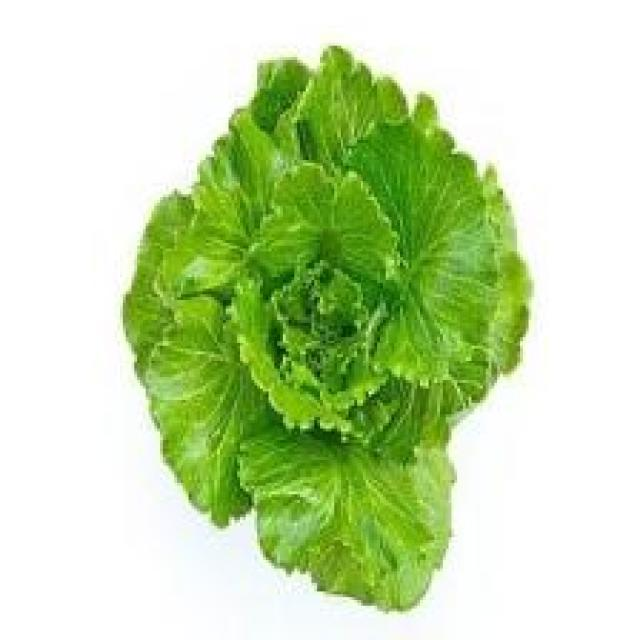Lettuce: (120, 41, 534, 611)
